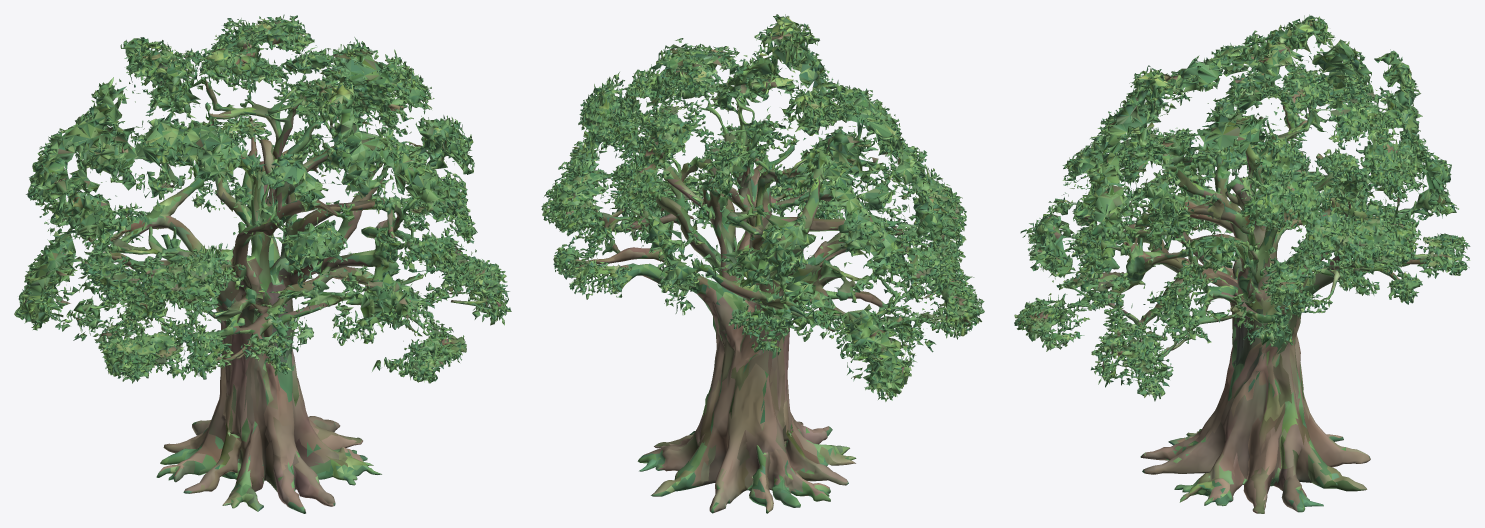
File: oak-tree.glb
3 renders of one model, left to right at view 1: azimuth 30°, elevation 25°; view 2: azimuth 150°, elevation 25°; view 3: azimuth 270°, elevation 25°, orthographic. The views are drawn at different scales.
Visible parts, largest first — view 1: Oak_Trunk_Branches, Oak_Foliage; view 2: Oak_Trunk_Branches, Oak_Foliage; view 3: Oak_Trunk_Branches, Oak_Foliage.
Part boxes in pixels (x1=…): Oak_Trunk_Branches: x1=75, y1=14, x2=511, y2=513; Oak_Foliage: x1=14, y1=16, x2=507, y2=376; Oak_Trunk_Branches: x1=541, y1=54, x2=984, y2=513; Oak_Foliage: x1=552, y1=14, x2=973, y2=401; Oak_Trunk_Branches: x1=1014, y1=67, x2=1470, y2=513; Oak_Foliage: x1=1020, y1=14, x2=1458, y2=385.
Bounding box in the file's own units: 5.84 × 6.15 × 6.08.
Materials: 1 (1 with a texture image).
